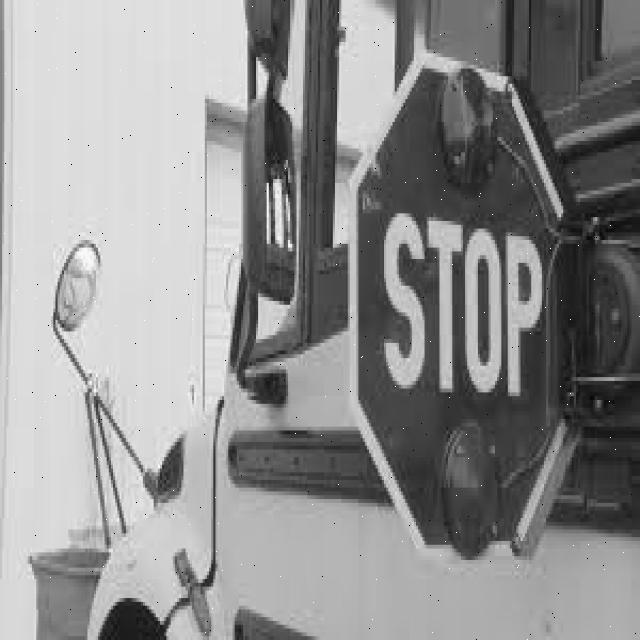stop sign: (350, 58, 578, 558)
